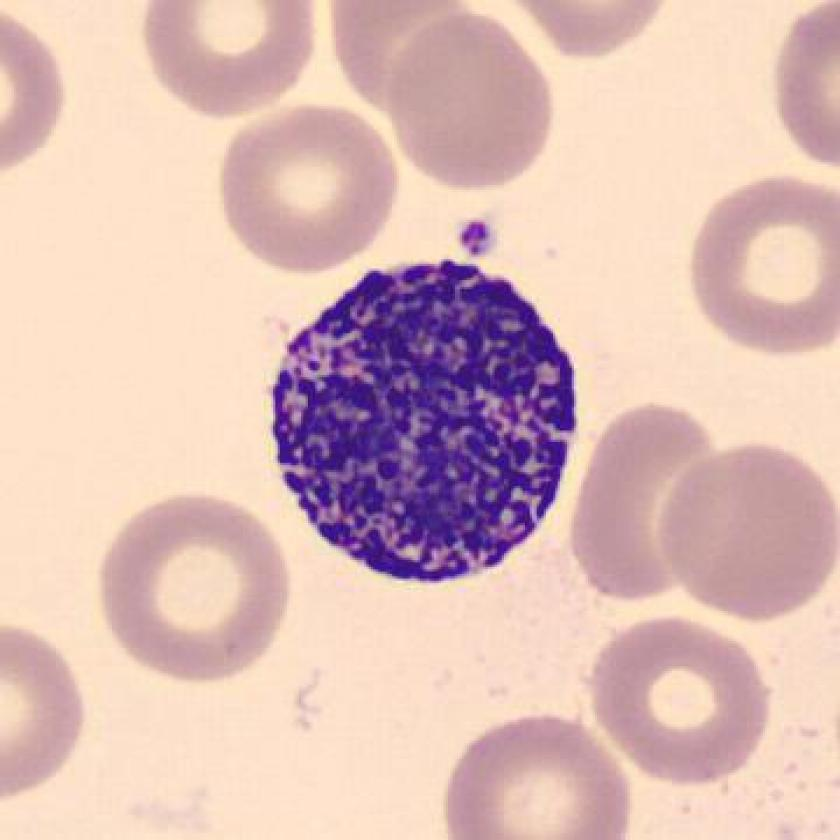basophil: (260, 253, 587, 582)
